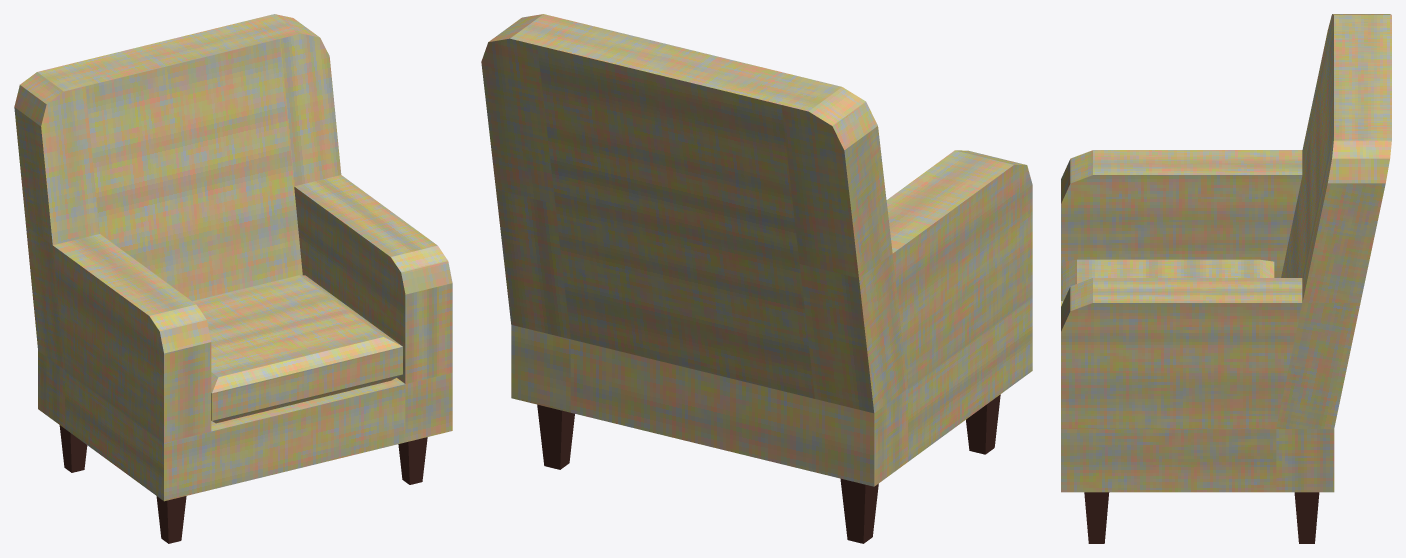
The model's file is armchair-c4.glb.
The picture shows the model from 3 angles, left to right: view 1: azimuth 30°, elevation 25°; view 2: azimuth 150°, elevation 25°; view 3: azimuth 270°, elevation 25°; orthographic projection. The views are drawn at different scales.
Visible parts, largest first — view 1: Armchair, Armchair.001; view 2: Armchair, Armchair.001; view 3: Armchair, Armchair.001.
Boxes of the visible parts, x1,y1,x2,y2 form: Armchair: [14, 14, 452, 501]; Armchair.001: [59, 425, 427, 543]; Armchair: [481, 14, 1032, 486]; Armchair.001: [537, 394, 1000, 543]; Armchair: [1061, 14, 1391, 492]; Armchair.001: [1084, 492, 1319, 543].
Bounding box in the file's own units: 0.5881 × 0.7162 × 0.5384.
2 materials, 2 textured.
